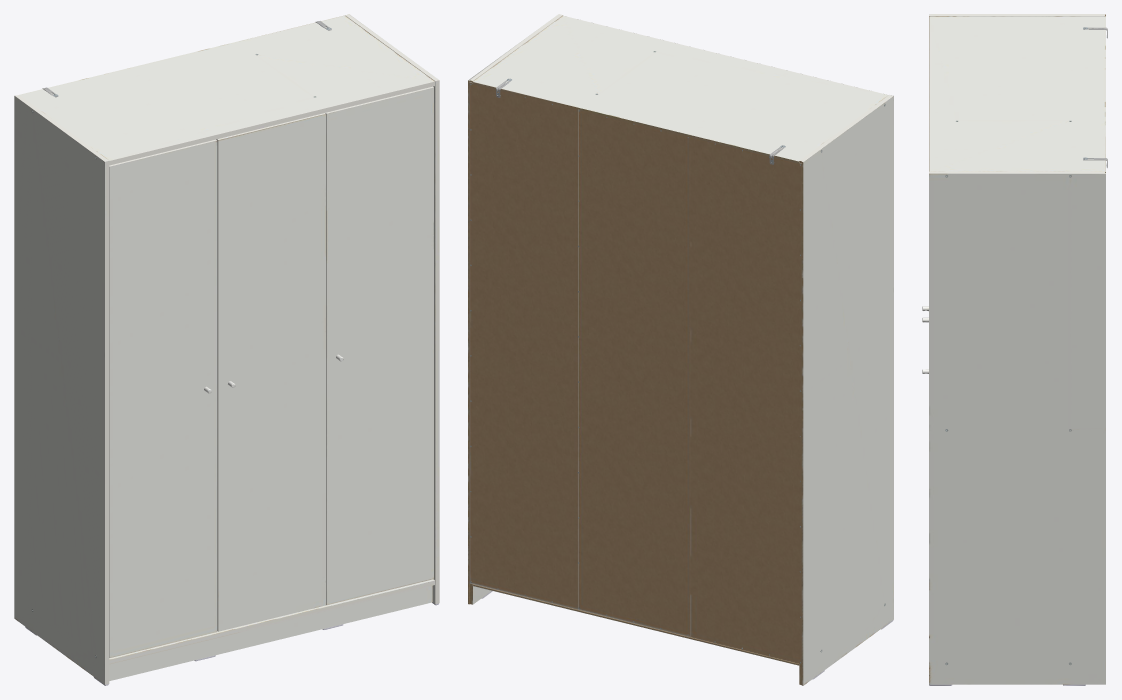
3 views of the same model, side by side, from view 1: azimuth 30°, elevation 25°; view 2: azimuth 150°, elevation 25°; view 3: azimuth 270°, elevation 25° (orthographic). The views are drawn at different scales.
Parts seen in each view (by area): view 1: 00441758-KLEPPSTAD001; view 2: 00441758-KLEPPSTAD001; view 3: 00441758-KLEPPSTAD001.
Part boxes in pixels (box(x1,y1,x2,y2)): 00441758-KLEPPSTAD001: box(14, 14, 439, 685); 00441758-KLEPPSTAD001: box(468, 14, 893, 685); 00441758-KLEPPSTAD001: box(922, 14, 1107, 685).
Bounding box in the file's own units: 1.17 × 1.76 × 0.5751.
1 material, 1 textured.
